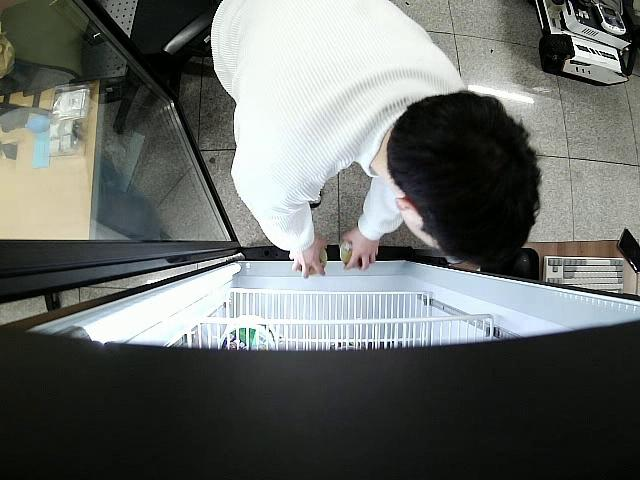00_hand: (340, 225, 381, 271), (289, 235, 328, 281)
04_chapagetti_S: (340, 240, 368, 269)
